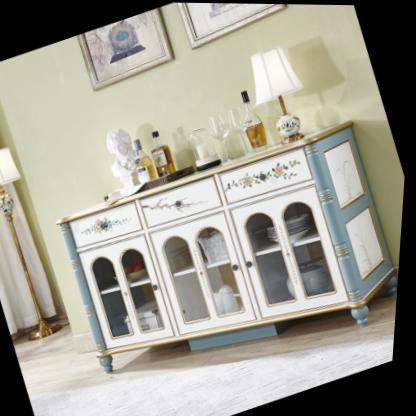Cupboard: (61, 124, 399, 371)
